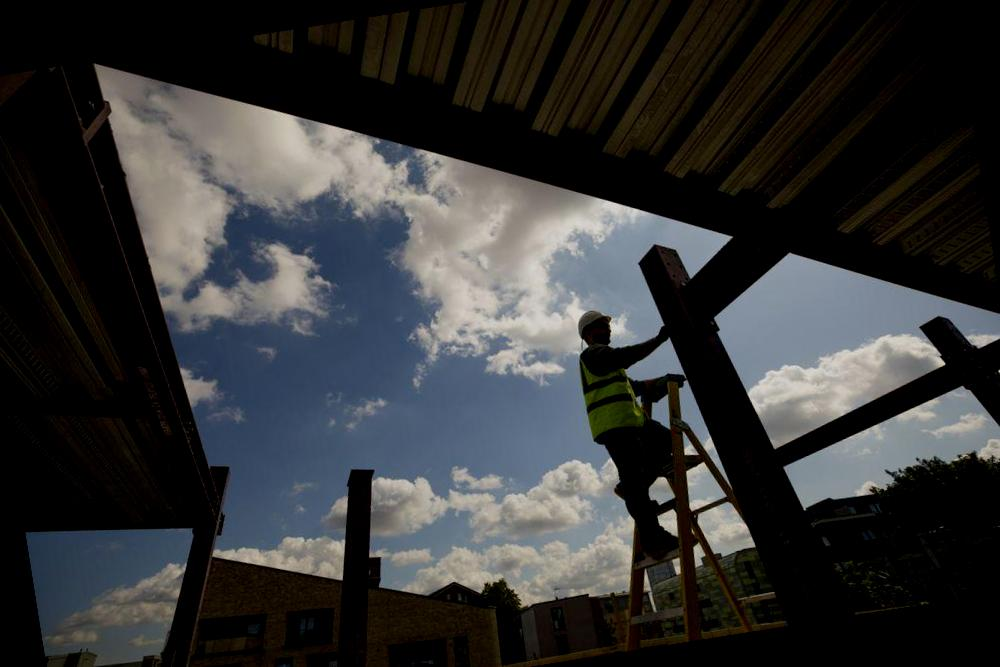person: (560, 293, 702, 572)
